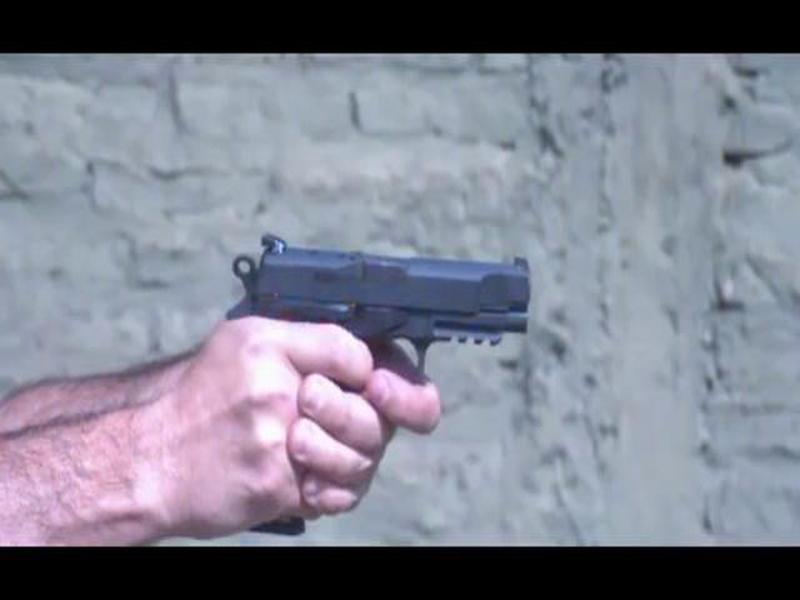Pistola: (197, 220, 553, 385)
